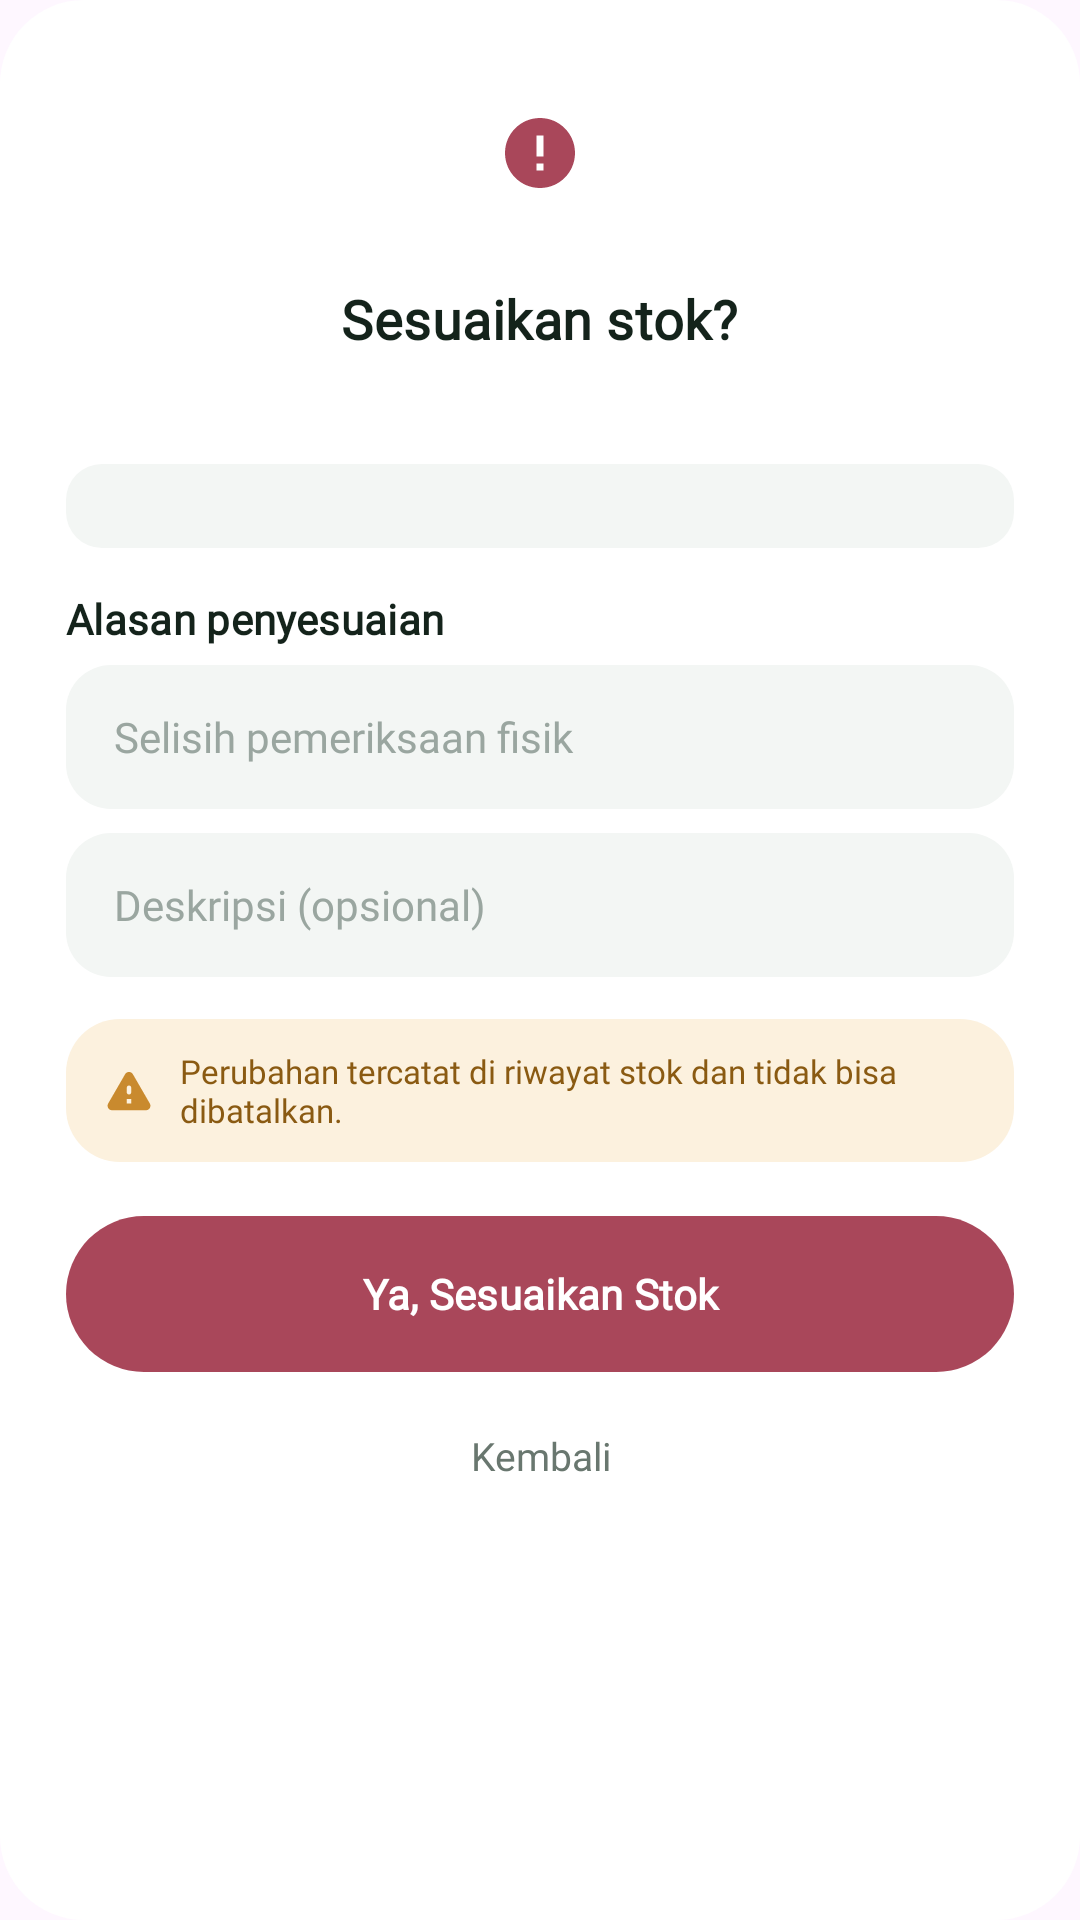

Screen size 1080w x 1920h. Icon name, then its box in pixels as (x1, y1, x2, y2):
error: (505, 118, 575, 188)
warning: (107, 1072, 151, 1111)
